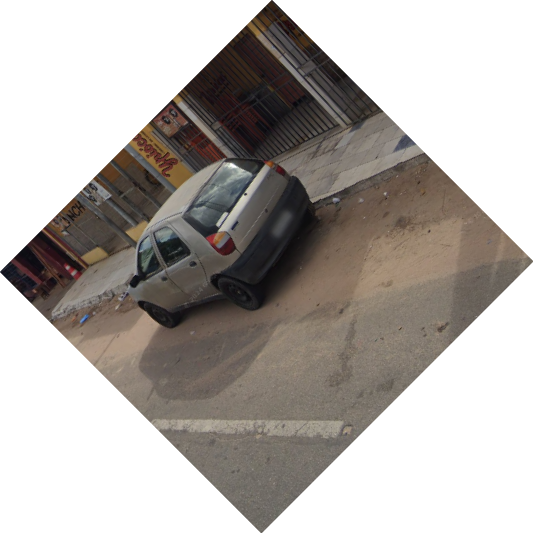car: (124, 154, 325, 340)
